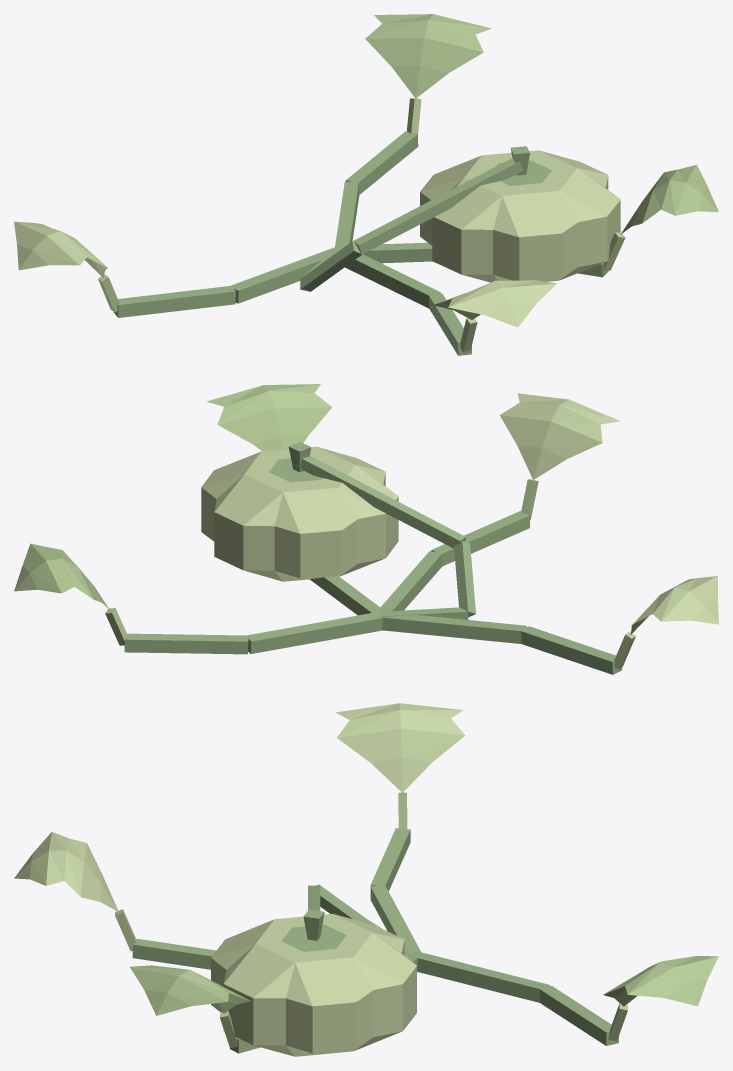
Rendered from crafted-crop-pumpkin-2.glb.
3 renders of one model, top to bottom at view 1: azimuth 30°, elevation 25°; view 2: azimuth 150°, elevation 25°; view 3: azimuth 270°, elevation 25°, orthographic. The views are drawn at different scales.
Parts seen in each view (by area): view 1: fruit-skin, vine-leaf-2, vine-leaf-3, vine-leaf, vine-leaf-1, fruit-attachment-2, vine-1-1, vine-0-1, vine-0-3, vine-1-2, vine-0, fruit-attachment-1 (+3 smaller); view 2: fruit-skin, vine-leaf-3, vine-leaf, vine-leaf-2, fruit-attachment-2, vine-leaf-1, vine-0-2, vine-0-1, vine-1-2, vine-1-1, vine-1-3, vine-0-3 (+4 smaller); view 3: fruit-skin, vine-leaf-1, vine-leaf-3, vine-leaf, vine-leaf-2, vine-0-2, vine-1-2, vine-1-3, fruit-stem, vine-0-1, vine-1-1, fruit-attachment-1.
Part boxes in pixels (left/top/right/bottom): fruit-skin: left=420, top=150, right=620, bottom=282; vine-leaf-2: left=365, top=14, right=491, bottom=98; vine-leaf-3: left=433, top=280, right=556, bottom=327; vine-leaf: left=620, top=164, right=718, bottom=234; vine-leaf-1: left=14, top=221, right=107, bottom=277; fruit-attachment-2: left=353, top=158, right=523, bottom=254; vine-1-1: left=113, top=286, right=235, bottom=317; vine-0-1: left=229, top=246, right=339, bottom=303; vine-0-3: left=345, top=254, right=440, bottom=308; vine-1-2: left=345, top=131, right=418, bottom=194; vine-0: left=363, top=242, right=432, bottom=263; fruit-attachment-1: left=300, top=241, right=361, bottom=291; fruit-skin: left=201, top=446, right=398, bottom=581; vine-leaf-3: left=500, top=393, right=620, bottom=479; vine-leaf: left=207, top=384, right=332, bottom=451; vine-leaf-2: left=14, top=543, right=109, bottom=609; fruit-attachment-2: left=296, top=456, right=465, bottom=548; vine-leaf-1: left=630, top=576, right=718, bottom=634; vine-0-2: left=245, top=611, right=382, bottom=653; vine-0-1: left=380, top=615, right=526, bottom=643; vine-1-2: left=124, top=633, right=248, bottom=654; vine-1-1: left=520, top=626, right=622, bottom=674; vine-1-3: left=431, top=511, right=529, bottom=566; vine-0-3: left=379, top=551, right=442, bottom=612; fruit-skin: left=211, top=913, right=416, bottom=1056; vine-leaf-1: left=335, top=703, right=465, bottom=792; vine-leaf-3: left=14, top=832, right=118, bottom=911; vine-leaf: left=130, top=965, right=250, bottom=1015; vine-leaf-2: left=603, top=956, right=718, bottom=1006; vine-0-2: left=411, top=952, right=549, bottom=1002; vine-1-2: left=539, top=985, right=618, bottom=1045; vine-1-3: left=132, top=938, right=216, bottom=969; fruit-stem: left=281, top=909, right=346, bottom=951; vine-0-1: left=370, top=885, right=421, bottom=954; vine-1-1: left=370, top=828, right=410, bottom=891; fruit-attachment-1: left=316, top=884, right=367, bottom=922.
Size of the model in its own units: 0.8247 by 0.1516 by 0.8046.
